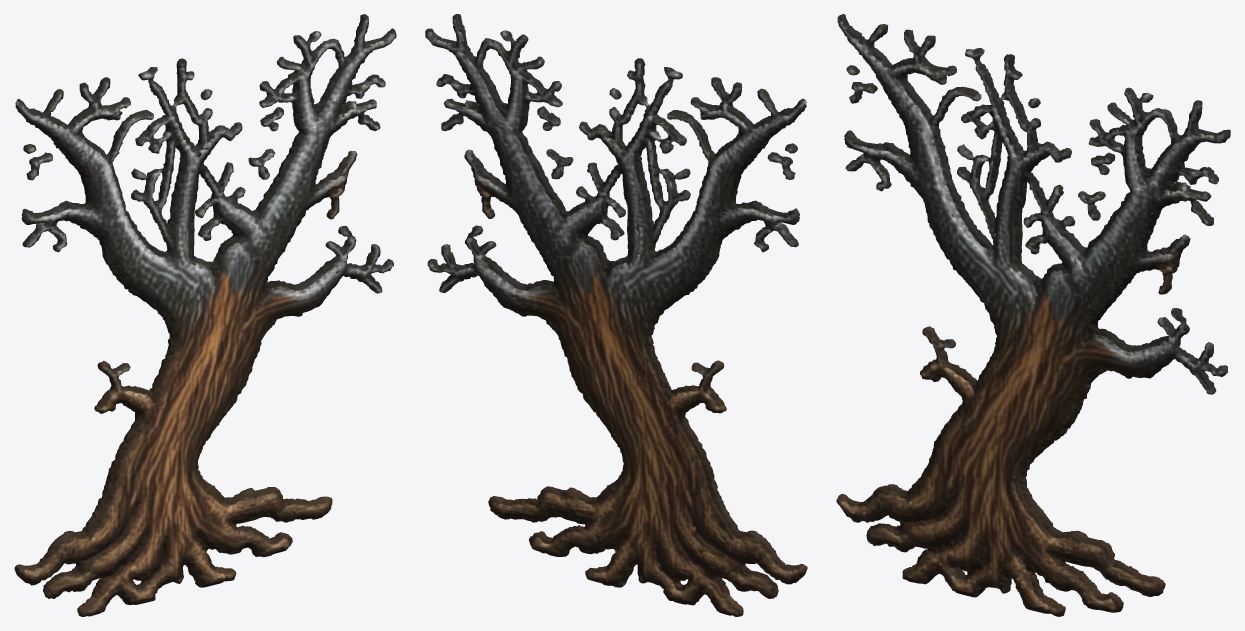
The model's file is TRE2A0_2026-08-06T235059.624.glb.
The picture shows the model from 3 angles, left to right: view 1: azimuth 30°, elevation 25°; view 2: azimuth 150°, elevation 25°; view 3: azimuth 330°, elevation 25°; orthographic projection. The views are drawn at different scales.
Parts seen in each view (by area): view 1: world; view 2: world; view 3: world.
Boxes of the visible parts, x1,y1,x2,y2 form: world: [14, 14, 396, 616]; world: [425, 14, 807, 616]; world: [836, 14, 1230, 616].
Bounding box in the file's own units: 0.7496 × 1 × 0.0315.
1 material, 1 textured.
